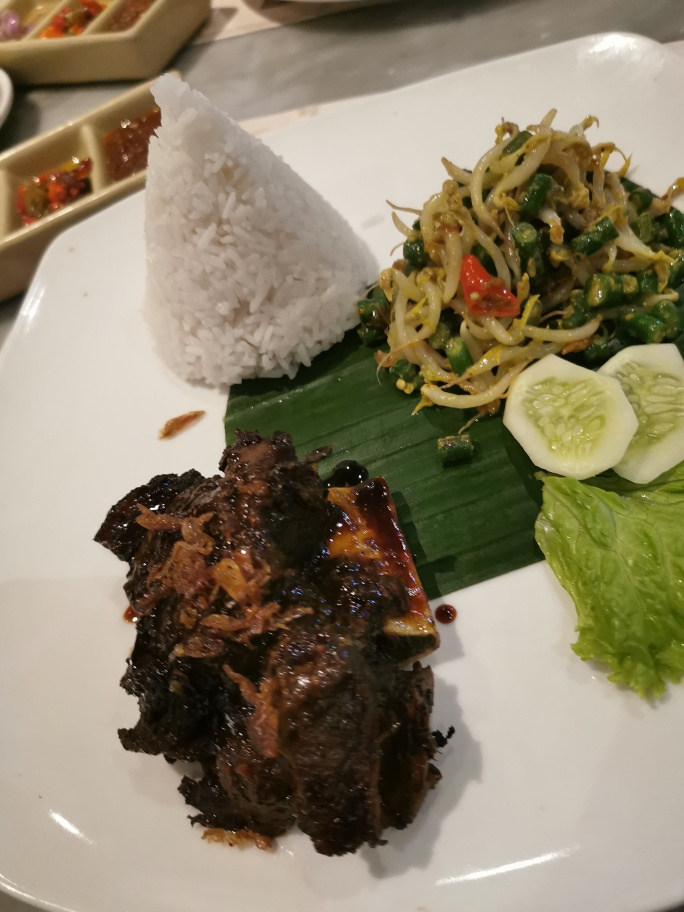iga bakar: (85, 426, 449, 862)
nasi putih: (111, 68, 386, 390)
